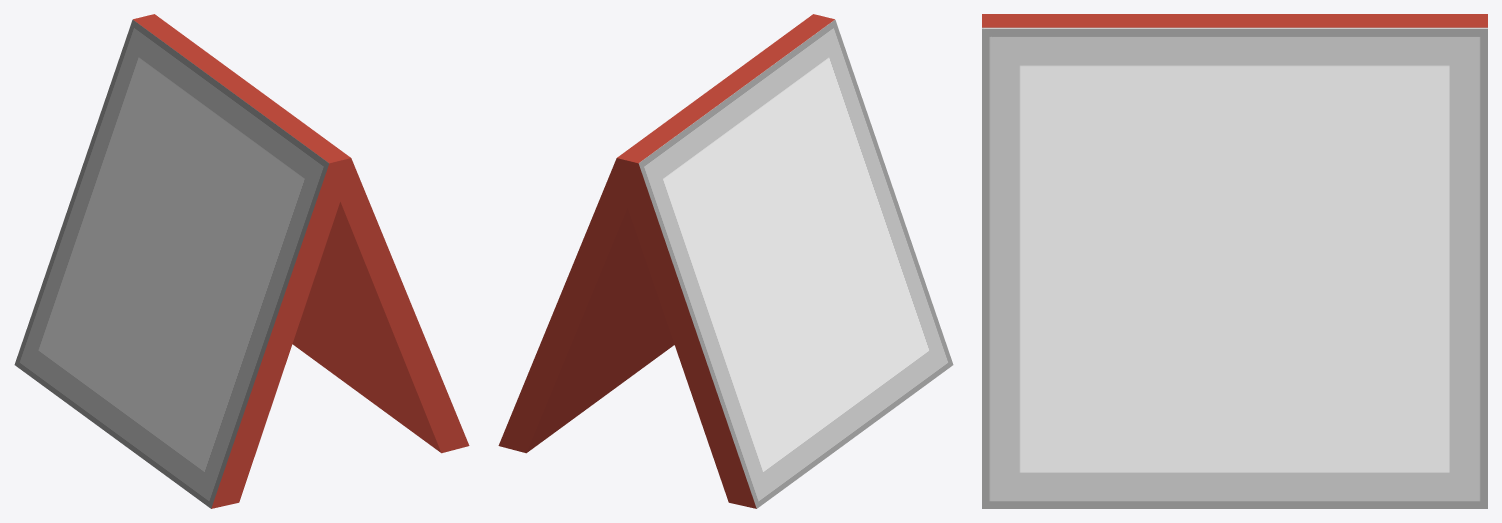
Rendered from Sign.fbx.
The picture shows the model from 3 angles, left to right: view 1: azimuth 30°, elevation 25°; view 2: azimuth 150°, elevation 25°; view 3: azimuth 270°, elevation 25°; orthographic projection. The views are drawn at different scales.
Visible parts, largest first — view 1: Cube.003; view 2: Cube.003; view 3: Cube.003.
Boxes of the visible parts, x1,y1,x2,y2 form: Cube.003: (14, 14, 469, 508); Cube.003: (498, 14, 953, 508); Cube.003: (982, 14, 1487, 508).
Size of the model in its own units: 0.379 by 0.4449 by 0.5.
